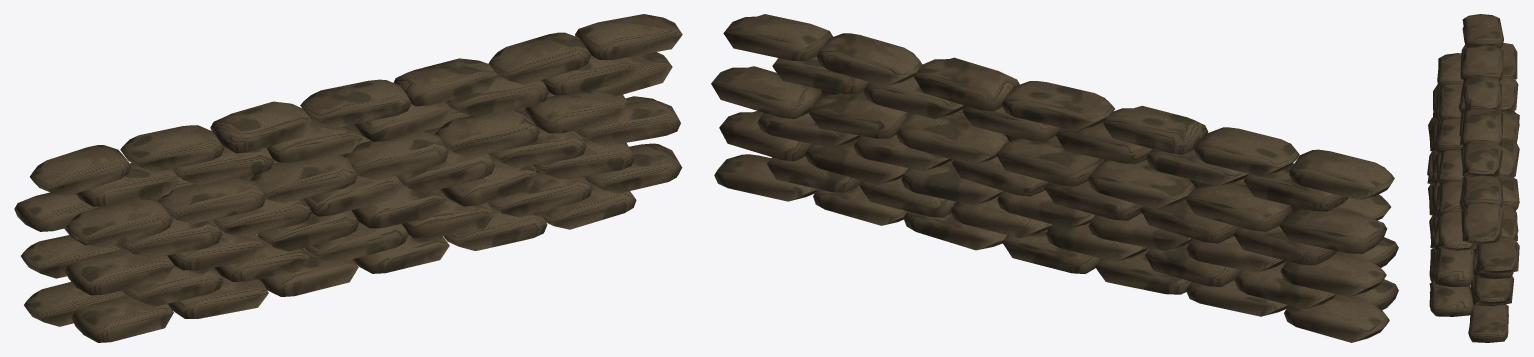
Rendered from sandbag_wall.glb.
3 renders of one model, left to right at view 1: azimuth 30°, elevation 25°; view 2: azimuth 150°, elevation 25°; view 3: azimuth 270°, elevation 25°, orthographic. The views are drawn at different scales.
Parts seen in each view (by area): view 1: Sandbag_Wall; view 2: Sandbag_Wall; view 3: Sandbag_Wall.
Part boxes in pixels (x1,y1,x2,y2): Sandbag_Wall: (14, 14, 682, 342); Sandbag_Wall: (711, 14, 1398, 342); Sandbag_Wall: (1427, 14, 1519, 342).
Size of the model in its own units: 3.51 by 0.8327 by 0.6082.
1 material, 1 textured.
